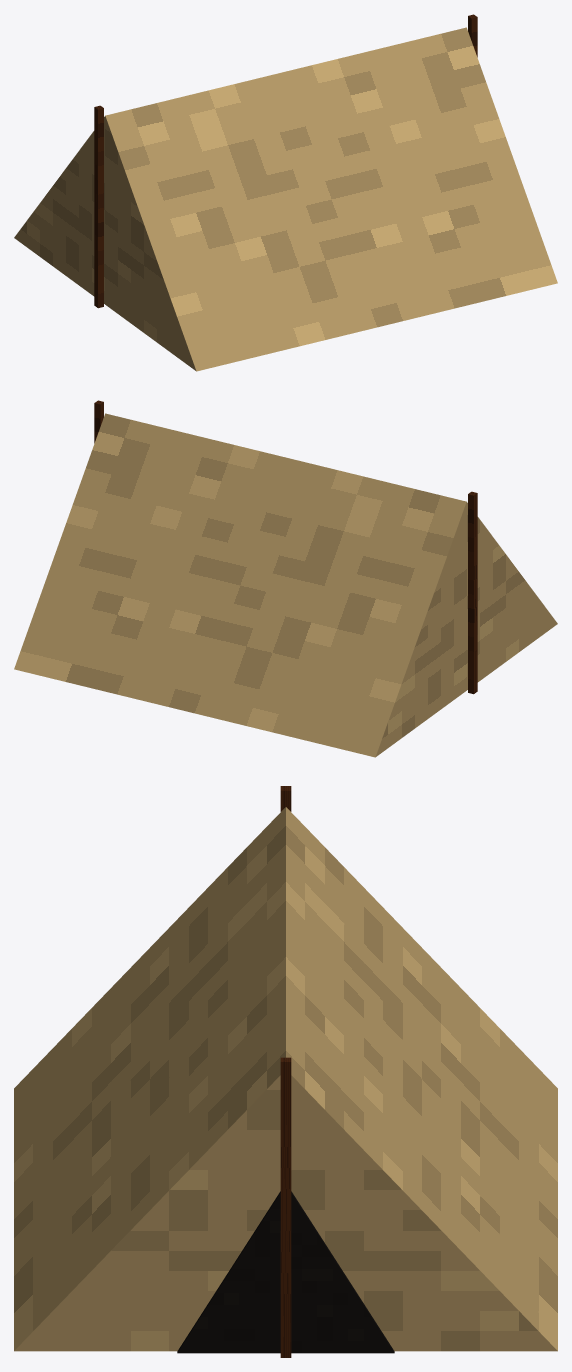
The model's file is tienda_ligera.glb.
3 views of the same model, one above another, from view 1: azimuth 30°, elevation 25°; view 2: azimuth 150°, elevation 25°; view 3: azimuth 270°, elevation 25° (orthographic). The views are drawn at different scales.
Visible parts, largest first — view 1: lona, palos; view 2: lona, palos; view 3: lona, entrada, palos.
Boxes of the visible parts, x1=… form: lona: x1=14, y1=27, x2=557, y2=371; palos: x1=94, y1=14, x2=477, y2=308; lona: x1=14, y1=413, x2=557, y2=757; palos: x1=94, y1=400, x2=477, y2=694; lona: x1=14, y1=807, x2=557, y2=1351; entrada: x1=177, y1=1191, x2=394, y2=1353; palos: x1=280, y1=786, x2=291, y2=1357.
Size of the model in its own units: 3 by 1.5 by 2.5.
1 material, 1 textured.
